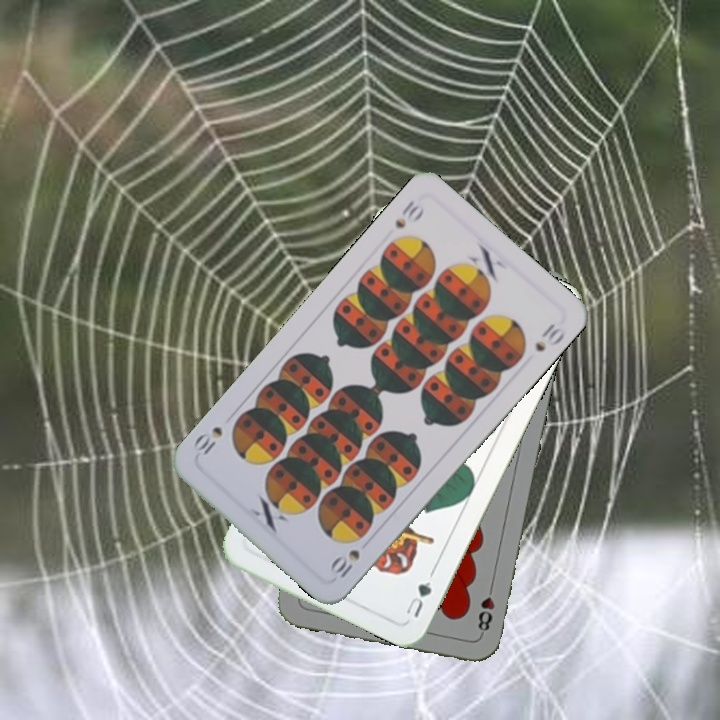GU: (401, 577, 435, 620)
H8: (473, 579, 497, 638)
S10: (391, 195, 427, 231), (328, 545, 363, 581)
